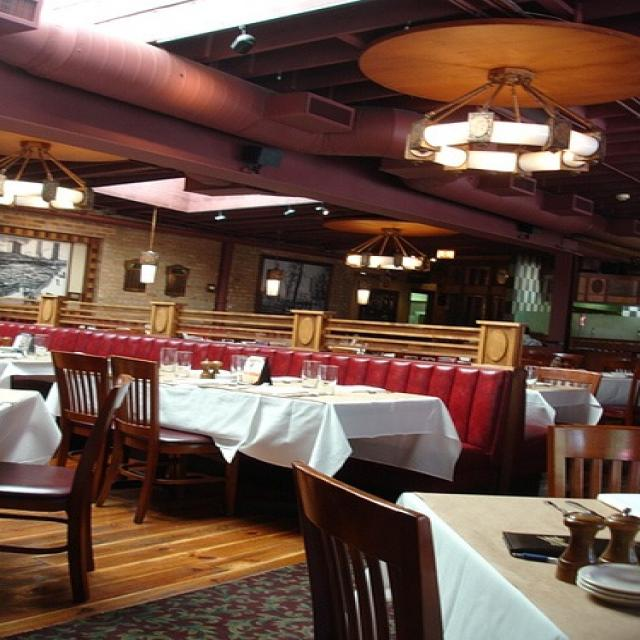chair: (2, 372, 131, 606), (285, 457, 442, 639), (98, 342, 242, 526), (49, 347, 106, 495), (543, 426, 638, 496), (531, 365, 594, 390)
diningtable: (107, 357, 461, 526), (400, 489, 638, 639)
